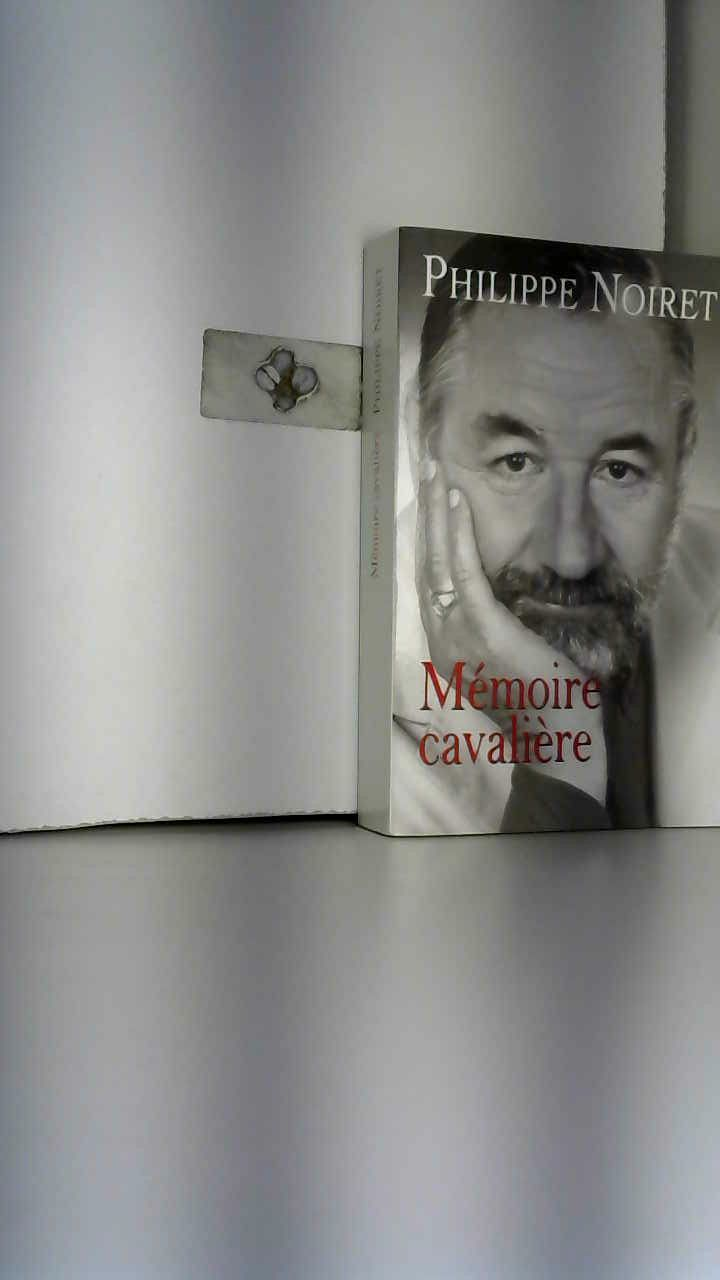book: (330, 193, 720, 874)
